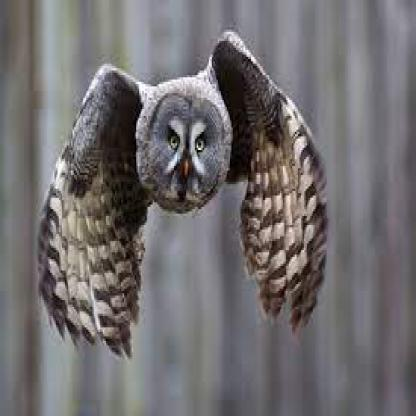owl: (35, 0, 414, 414)
